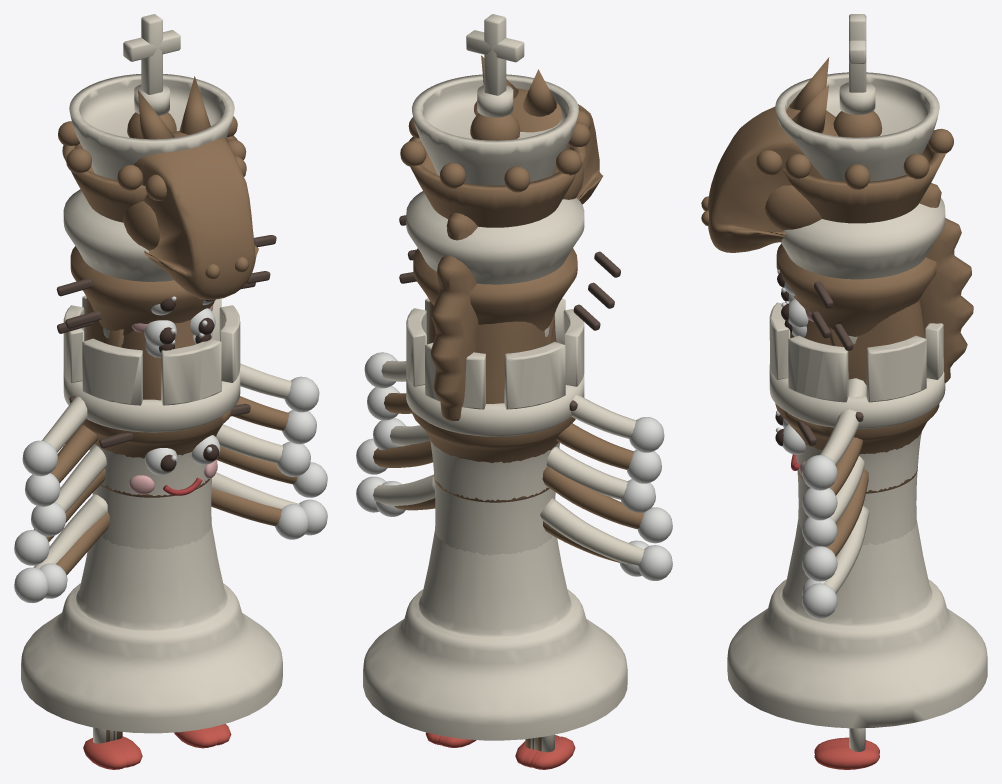
Rendered from piecefolk.glb.
3 renders of one model, left to right at view 1: azimuth 30°, elevation 25°; view 2: azimuth 150°, elevation 25°; view 3: azimuth 270°, elevation 25°, orthographic.
Parts seen in each view (by area): view 1: body, body.004, body.003, body.001, armL_mesh.004, armL_mesh.002, armR_mesh.002, armR_mesh.005, armL_mesh, armL_mesh.001, armR_mesh, armR_mesh.003 (+7 smaller); view 2: body, body.004, body.003, body.001, armL_mesh.004, armL_mesh.003, armL_mesh.002, armL_mesh.001, armL_mesh, armR_mesh.004, armR_mesh.003, armR_mesh.002 (+6 smaller); view 3: body, body.003, body.004, body.001, armR_mesh, armR_mesh.004, armR_mesh.003, armR_mesh.001, armR_mesh.002, legs_mesh, body.002.
Boxes of the visible parts, bbox=[...] form: body: bbox=[21, 14, 282, 733]; body.004: bbox=[63, 295, 250, 549]; body.003: bbox=[82, 76, 258, 458]; body.001: bbox=[58, 112, 270, 346]; armL_mesh.004: bbox=[14, 494, 107, 602]; armL_mesh.002: bbox=[31, 445, 106, 536]; armR_mesh.002: bbox=[216, 424, 310, 476]; armR_mesh.005: bbox=[211, 488, 308, 539]; armL_mesh: bbox=[22, 396, 87, 476]; armL_mesh.001: bbox=[25, 425, 98, 506]; armR_mesh: bbox=[240, 363, 319, 412]; armR_mesh.003: bbox=[216, 446, 327, 497]; body: bbox=[363, 14, 627, 740]; body.004: bbox=[406, 298, 584, 555]; body.003: bbox=[412, 55, 603, 463]; body.001: bbox=[400, 113, 614, 330]; armL_mesh.004: bbox=[540, 498, 672, 580]; armL_mesh.003: bbox=[542, 466, 672, 543]; armL_mesh.002: bbox=[546, 447, 655, 512]; armL_mesh.001: bbox=[556, 423, 661, 483]; armL_mesh: bbox=[571, 394, 664, 452]; armR_mesh.004: bbox=[356, 474, 435, 512]; armR_mesh.003: bbox=[356, 438, 432, 474]; armR_mesh.002: bbox=[373, 418, 430, 449]; body: bbox=[727, 14, 987, 728]; body.003: bbox=[701, 57, 973, 454]; body.004: bbox=[769, 302, 945, 545]; body.001: bbox=[776, 111, 953, 338]; armR_mesh: bbox=[802, 378, 866, 490]; armR_mesh.004: bbox=[802, 506, 869, 618]; armR_mesh.003: bbox=[802, 469, 868, 581]; armR_mesh.001: bbox=[802, 437, 863, 520]; armR_mesh.002: bbox=[802, 456, 864, 547]; legs_mesh: bbox=[814, 728, 879, 769]; body.002: bbox=[784, 301, 857, 350].
Bounding box in the file's own units: 0.518 × 1.17 × 0.418.
